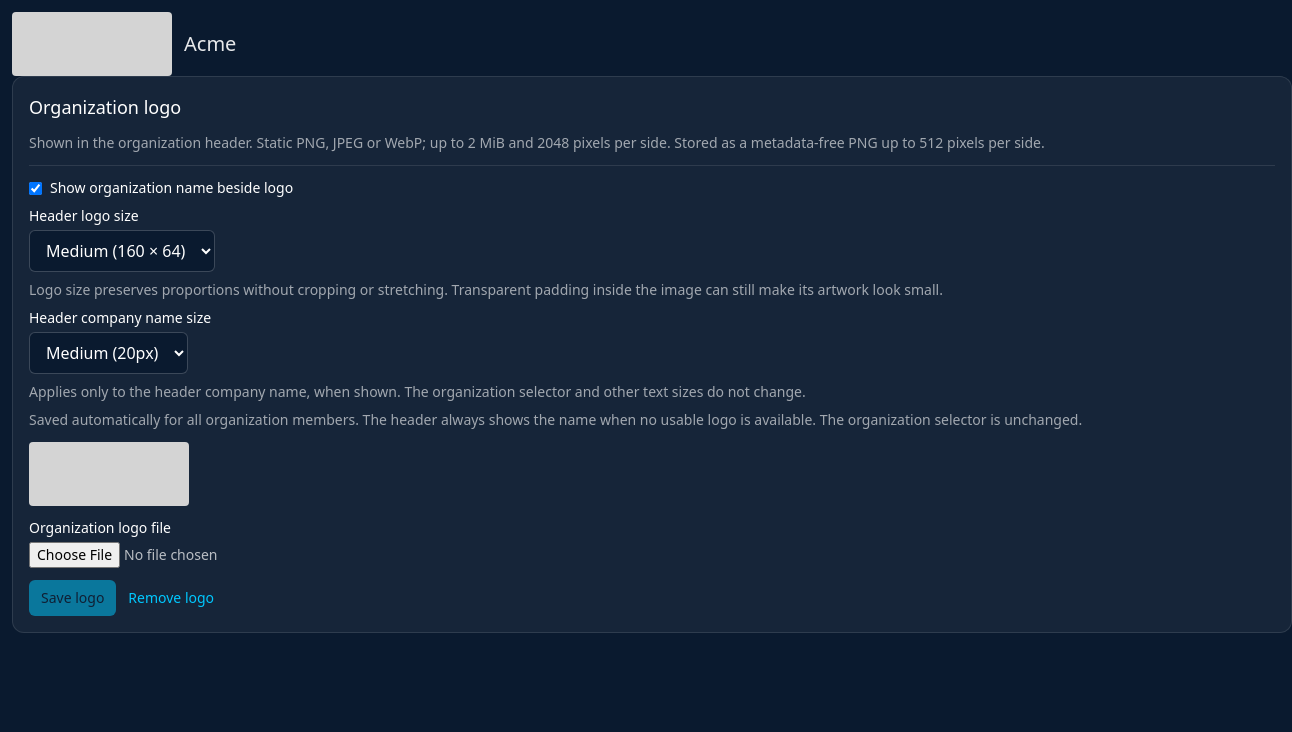
Test case: saves the organization-wide name preference and refreshes identity
Click the checkbox labelled "Show organization name beside logo".
click(36, 188)  # box [29,182,42,194]
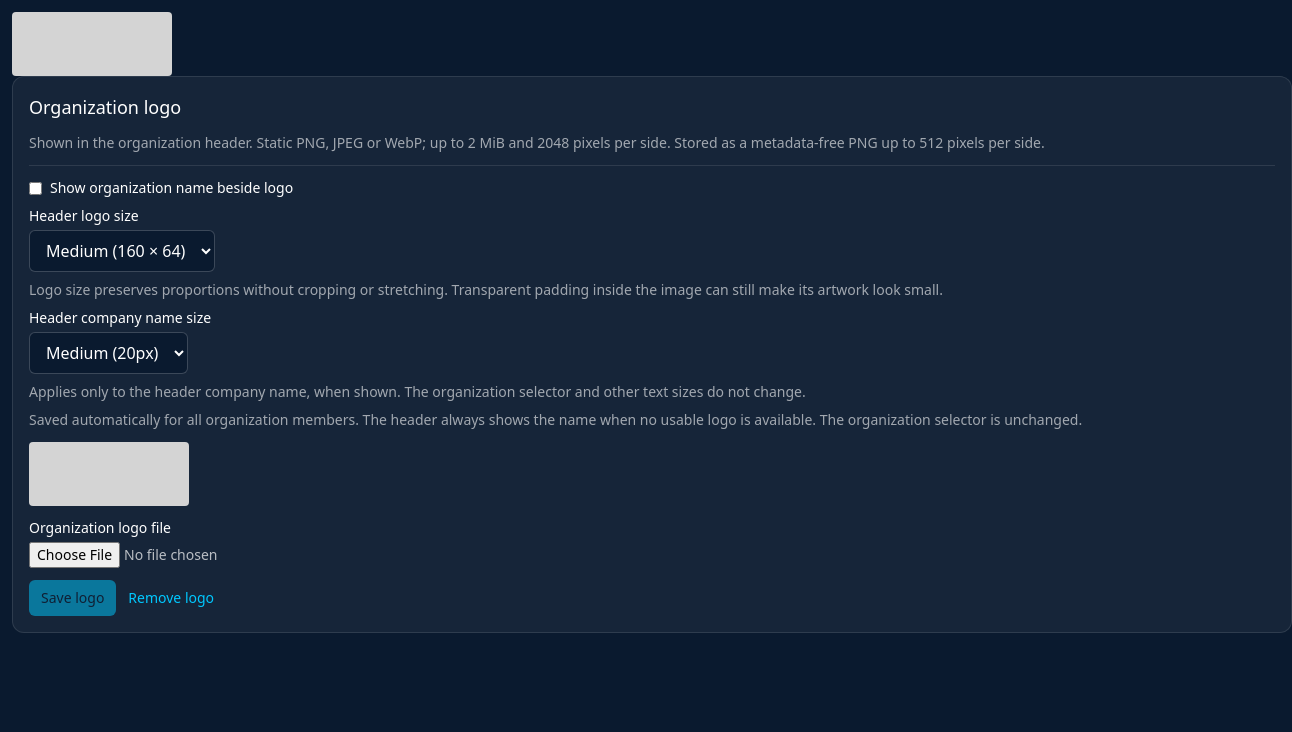
Check: the checkbox labelled "Show organization name beside logo" is not checked, box [29,182,42,194]
Check: the text "Acme" is gone
